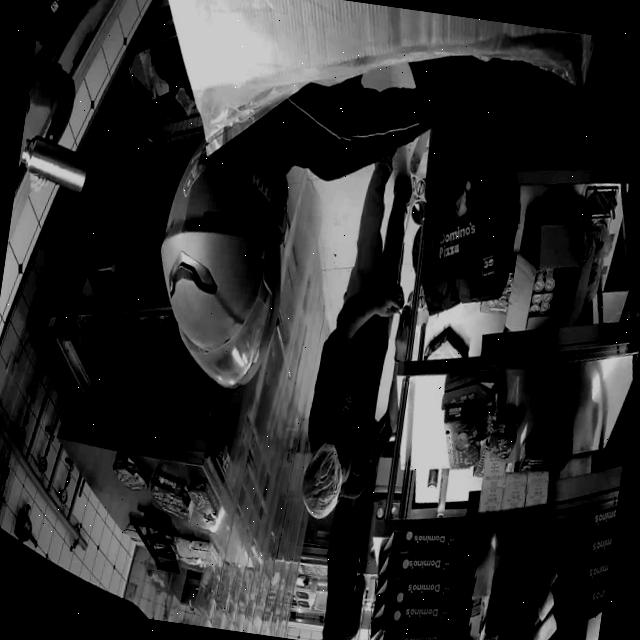helmet: (162, 129, 289, 390)
